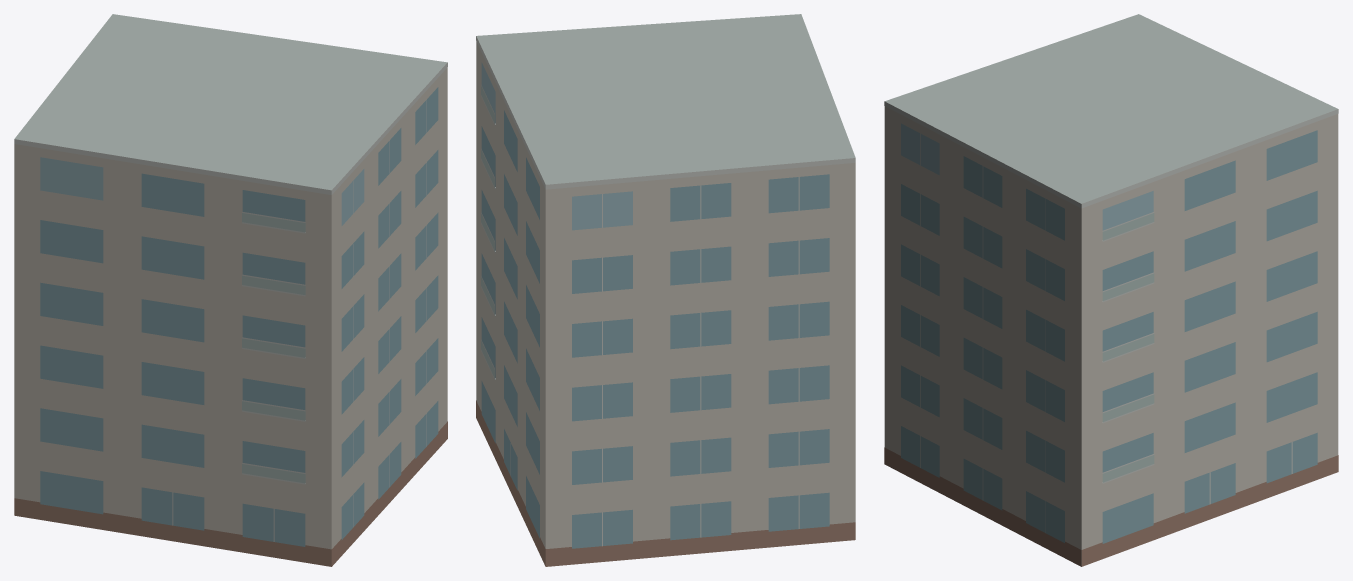
Rendered from survey-upis-33016353.glb.
3 renders of one model, left to right at view 1: azimuth 30°, elevation 25°; view 2: azimuth 150°, elevation 25°; view 3: azimuth 270°, elevation 25°, orthographic. The views are drawn at different scales.
Visible parts, largest first — view 1: survey-upis-33016353.tmp; view 2: survey-upis-33016353.tmp; view 3: survey-upis-33016353.tmp.
Boxes of the visible parts, x1,y1,x2,y2 form: survey-upis-33016353.tmp: [14, 14, 447, 566]; survey-upis-33016353.tmp: [476, 14, 855, 566]; survey-upis-33016353.tmp: [884, 14, 1338, 566].
Size of the model in its own units: 21.61 by 19.25 by 21.83.
